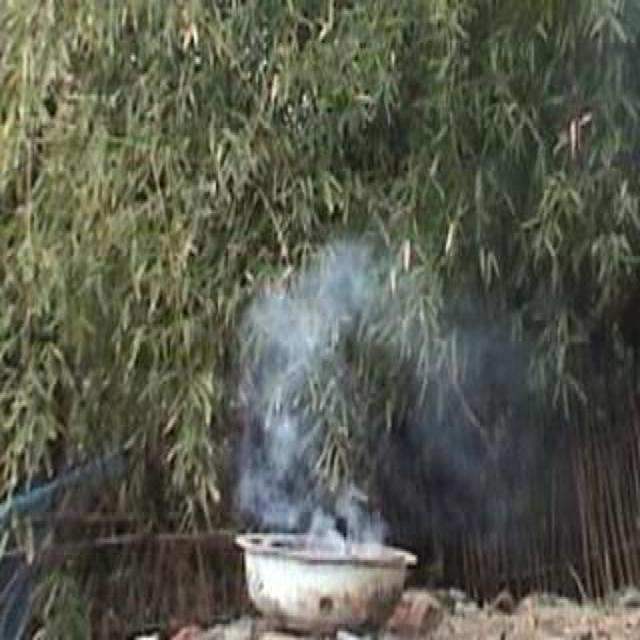Smoke: (231, 237, 394, 562)
